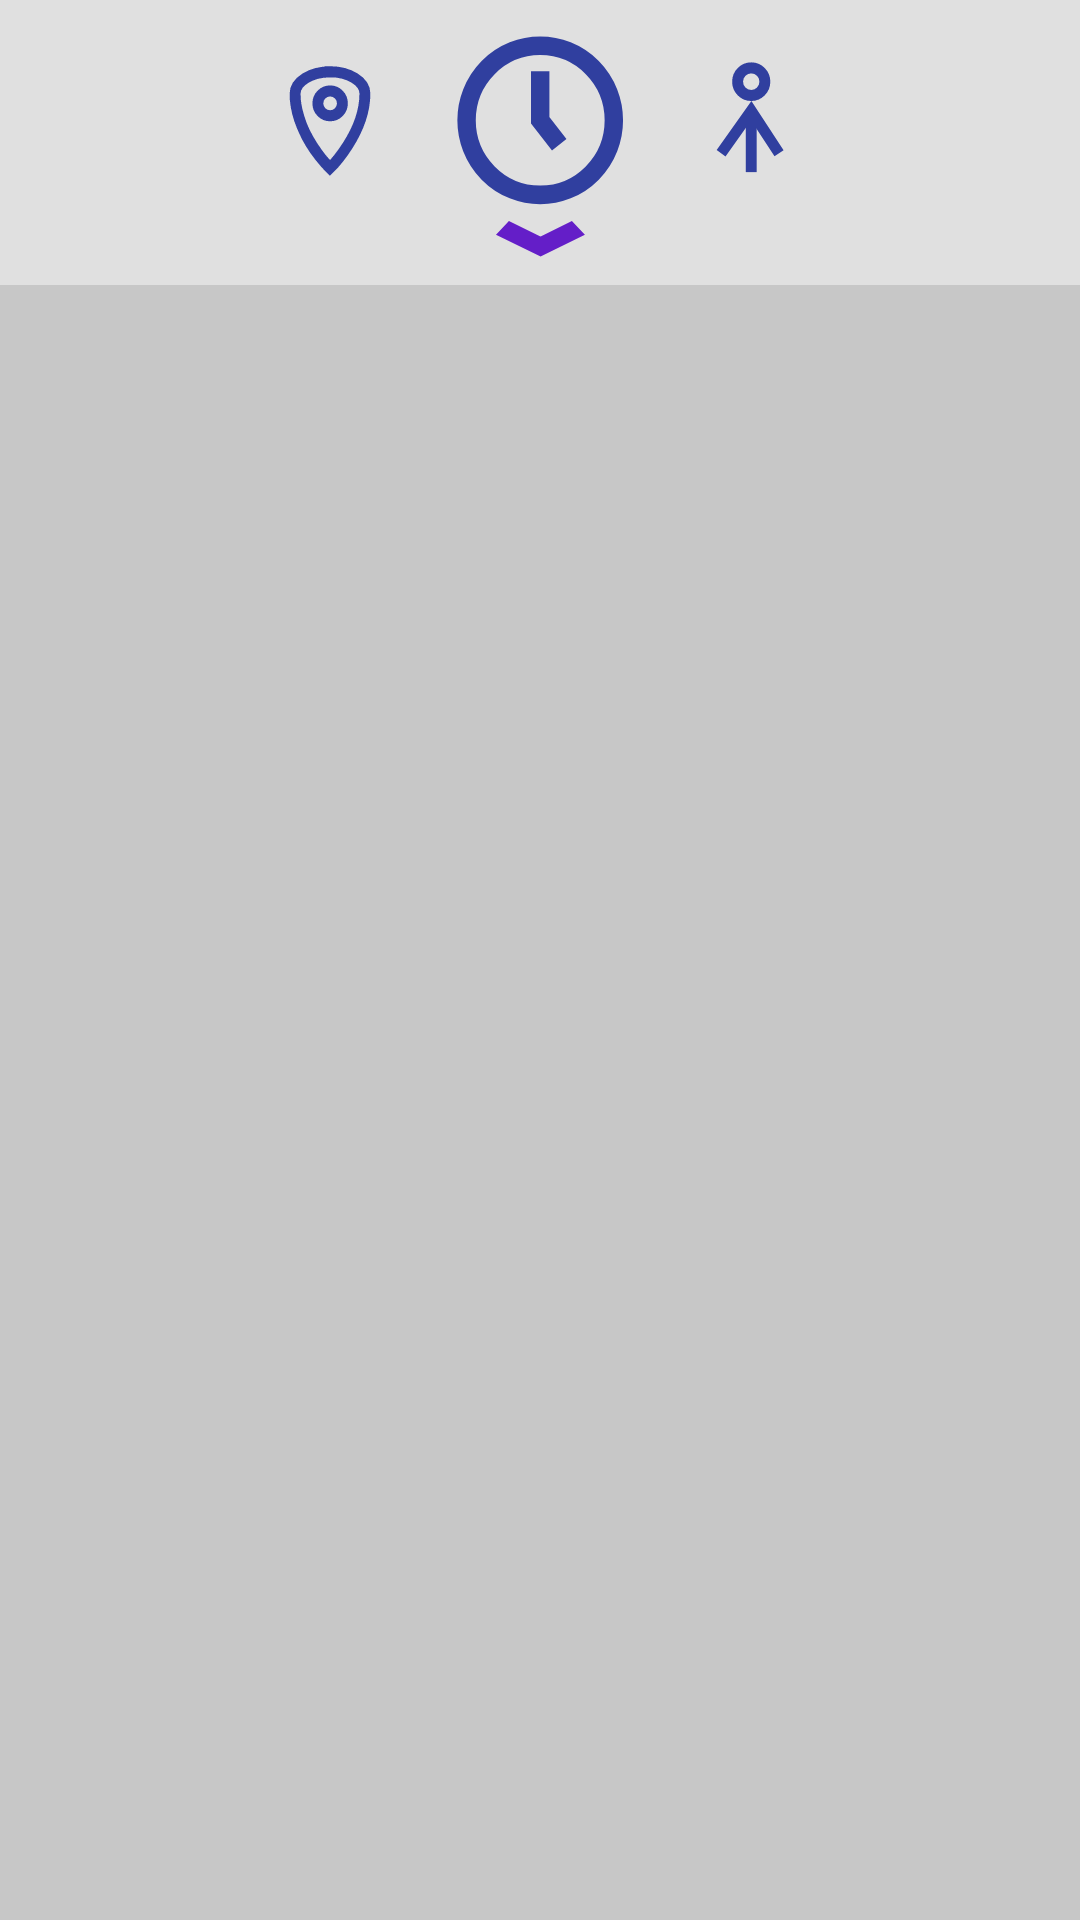

Where to tap for icons on this 1080*1920 app screen, as (x=x, y=y):
arrow down: (x=540, y=239)
human bar: (x=750, y=117)
location bar: (x=330, y=121)
time bar: (x=540, y=120)
